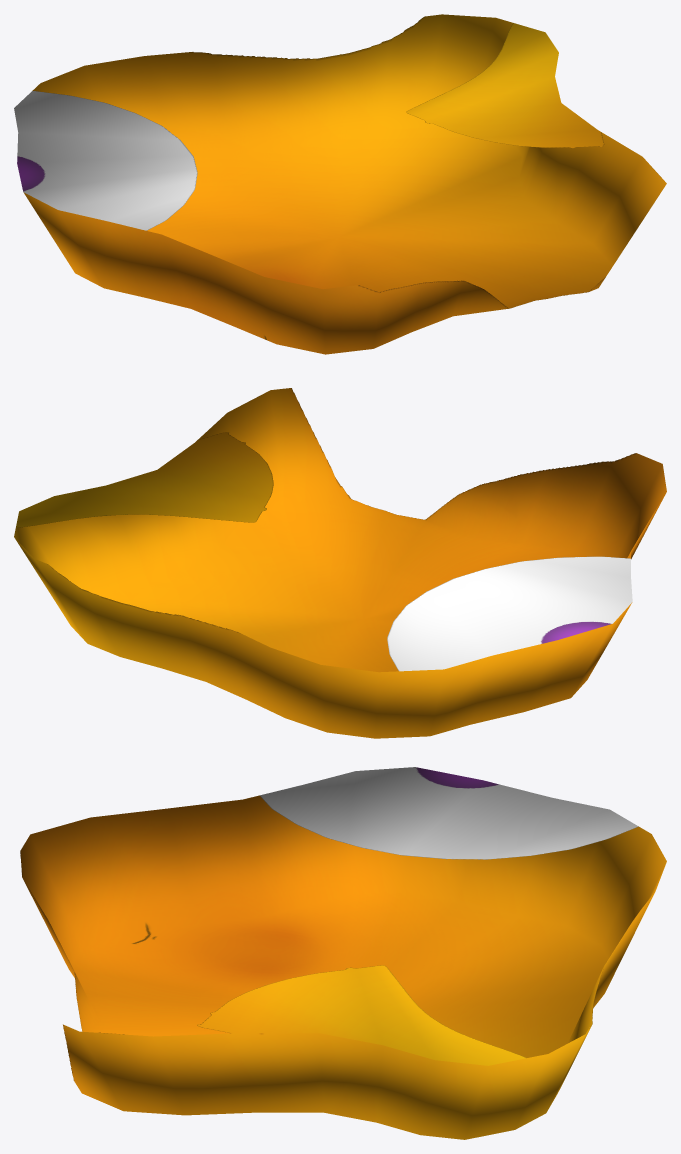
File: Placa de gelo.fbx
3 renders of one model, top to bottom at view 1: azimuth 30°, elevation 25°; view 2: azimuth 150°, elevation 25°; view 3: azimuth 270°, elevation 25°, orthographic. The views are drawn at different scales.
Visible parts, largest first — view 1: Circle; view 2: Circle; view 3: Circle.
Boxes of the visible parts, <box> form: Circle: <box>14,14,666,354</box>; Circle: <box>14,388,666,738</box>; Circle: <box>20,767,666,1139</box>.
Size of the model in its own units: 189 by 28.87 by 174.
